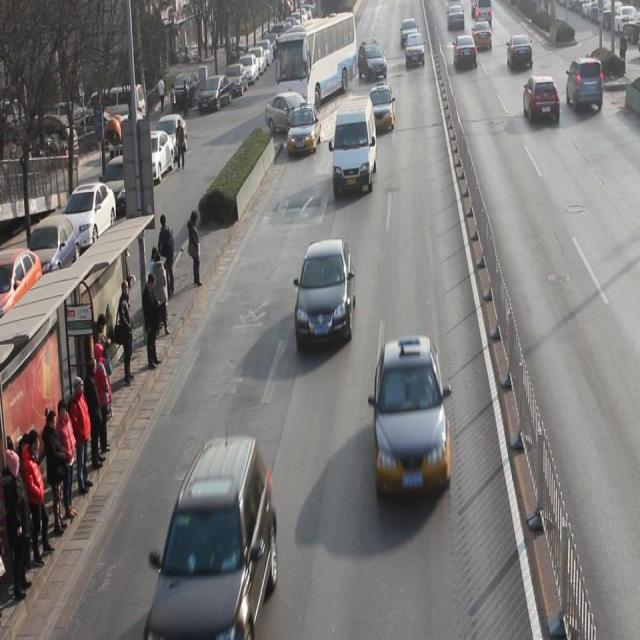car: (142, 432, 278, 640), (375, 336, 451, 496), (295, 240, 356, 350), (265, 94, 318, 138), (566, 56, 603, 112), (286, 104, 322, 159), (523, 75, 561, 126), (368, 84, 395, 134), (357, 40, 388, 83), (452, 35, 478, 73), (508, 35, 534, 72), (405, 33, 425, 70), (472, 20, 492, 52)
truck: (333, 95, 377, 198)
van: (276, 16, 358, 112)
